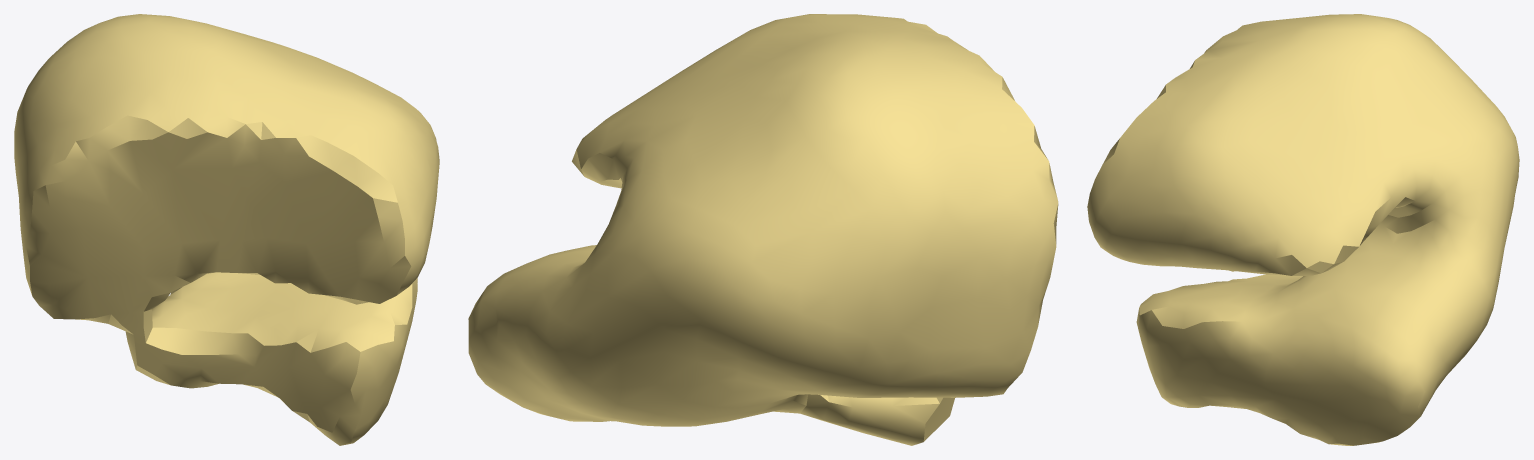
The model's file is fma274986_mm3642.glb.
The picture shows the model from 3 angles, left to right: view 1: azimuth 30°, elevation 25°; view 2: azimuth 150°, elevation 25°; view 3: azimuth 270°, elevation 25°; orthographic projection. The views are drawn at different scales.
Visible parts, largest first — view 1: FMA274986_MM3642; view 2: FMA274986_MM3642; view 3: FMA274986_MM3642.
Part boxes in pixels (box(x1,y1,x2,y2)): FMA274986_MM3642: box(14, 14, 439, 445); FMA274986_MM3642: box(468, 14, 1058, 445); FMA274986_MM3642: box(1087, 14, 1519, 445).
Size of the model in its own units: 0.00846 by 0.00684 by 0.00796.
